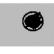correct: (21, 9, 46, 33)
